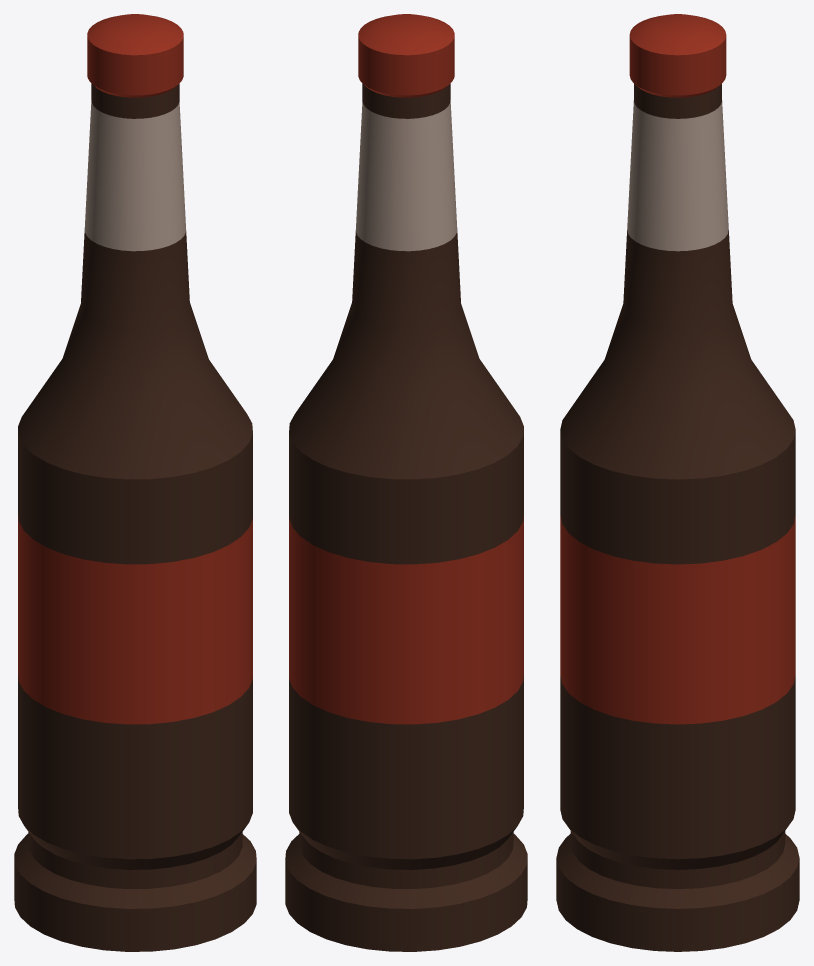
The model's file is Cikolata.fbx.
3 views of the same model, side by side, from view 1: azimuth 30°, elevation 25°; view 2: azimuth 150°, elevation 25°; view 3: azimuth 270°, elevation 25° (orthographic).
Visible parts, largest first — view 1: Circle, Circle.001; view 2: Circle, Circle.001; view 3: Circle, Circle.001.
Boxes of the visible parts, x1=… form: Circle: x1=14, y1=83, x2=256, y2=951; Circle.001: x1=87, y1=14, x2=183, y2=97; Circle: x1=285, y1=83, x2=527, y2=951; Circle.001: x1=358, y1=14, x2=454, y2=97; Circle: x1=556, y1=84, x2=799, y2=951; Circle.001: x1=629, y1=14, x2=726, y2=97.
Bounding box in the file's own units: 218 × 865 × 218.
